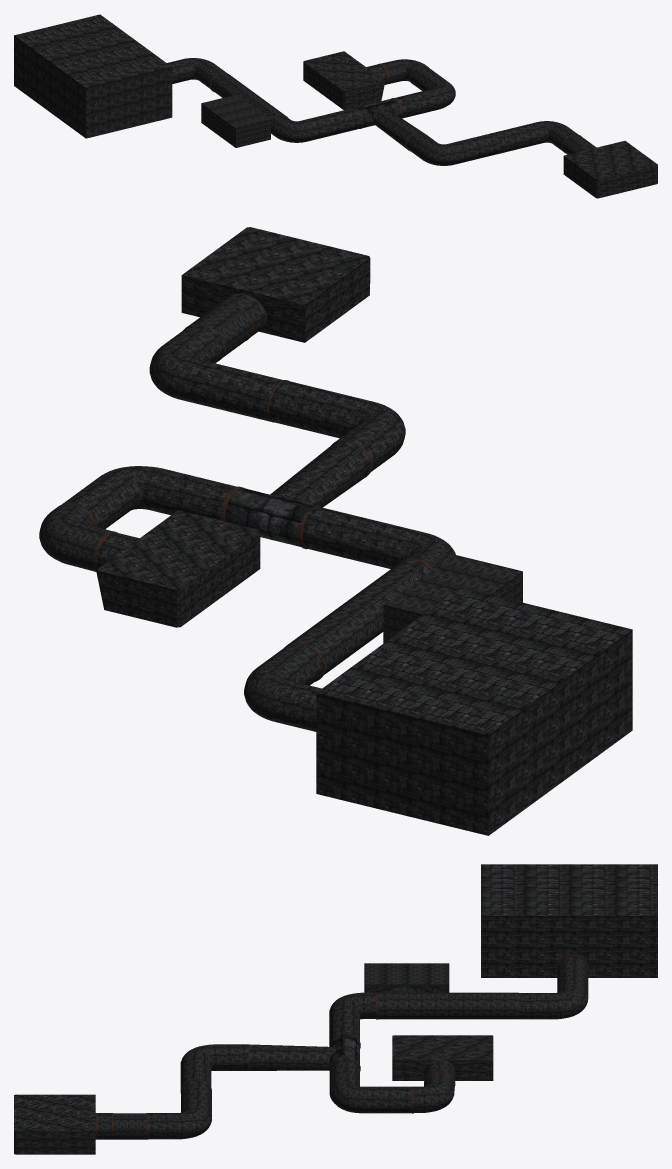
The model's file is tunnels_darker.fbx.
3 renders of one model, top to bottom at view 1: azimuth 30°, elevation 25°; view 2: azimuth 150°, elevation 25°; view 3: azimuth 270°, elevation 25°, orthographic. The views are drawn at different scales.
Visible parts, largest first — view 1: pCube2, polySurface21, pCube4, polySurface12, polySurface20, polySurface10, polySurface8, polySurface16, polySurface14, polySurface7; view 2: pCube2, polySurface21, polySurface20, polySurface12, polySurface10, pCube4, polySurface8, polySurface16, polySurface14, polySurface7; view 3: pCube2, polySurface21, polySurface10, polySurface20, polySurface8, pCube4, polySurface16, polySurface12, polySurface7, polySurface14.
Boxes of the visible parts, left/top/right/bottom form: pCube2: left=14, top=14, right=172, bottom=138; polySurface21: left=303, top=51, right=657, bottom=198; pCube4: left=201, top=94, right=270, bottom=147; polySurface12: left=271, top=108, right=362, bottom=142; polySurface20: left=395, top=66, right=455, bottom=118; polySurface10: left=210, top=73, right=284, bottom=119; polySurface8: left=167, top=58, right=226, bottom=88; polySurface16: left=374, top=108, right=422, bottom=148; polySurface14: left=355, top=98, right=401, bottom=127; polySurface7: left=381, top=59, right=427, bottom=83; pCube2: left=316, top=587, right=632, bottom=835; polySurface21: left=95, top=227, right=405, bottom=627; polySurface20: left=62, top=466, right=236, bottom=528; polySurface12: left=302, top=507, right=455, bottom=568; polySurface10: left=284, top=559, right=430, bottom=674; pCube4: left=383, top=554, right=522, bottom=643; polySurface8: left=244, top=643, right=322, bottom=731; polySurface16: left=270, top=441, right=370, bottom=507; polySurface14: left=224, top=488, right=319, bottom=546; polySurface7: left=39, top=504, right=110, bottom=571; pCube2: left=481, top=864, right=657, bottom=977; polySurface21: left=14, top=1035, right=493, bottom=1154; polySurface10: left=378, top=991, right=517, bottom=1019; polySurface20: left=329, top=1057, right=412, bottom=1113; polySurface8: left=518, top=957, right=588, bottom=1019; pCube4: left=364, top=963, right=449, bottom=992; polySurface16: left=248, top=1044, right=335, bottom=1070; polySurface12: left=329, top=992, right=375, bottom=1042; polySurface7: left=413, top=1072, right=454, bottom=1112; polySurface14: left=329, top=1033, right=359, bottom=1065.
Size of the model in its own units: 4149 by 526 by 4927.
Materials: 9 (9 with a texture image).
